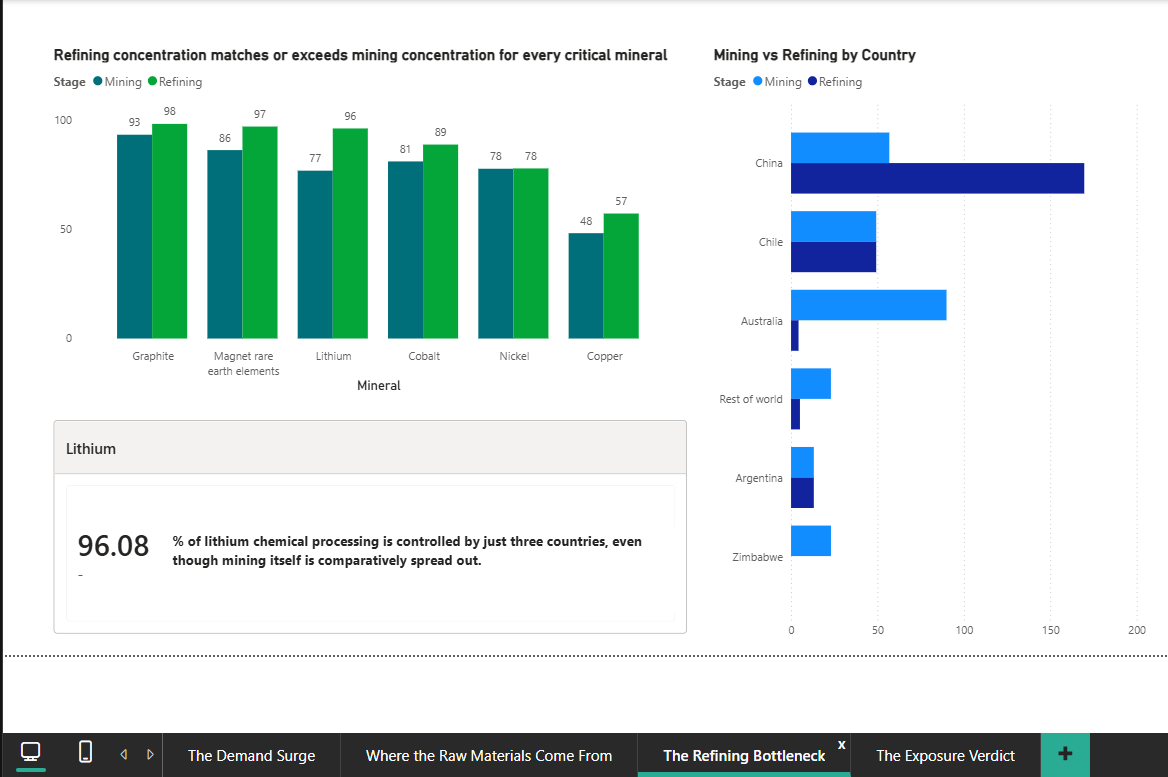

Layout of this report page (visuals, bound fields, positions):
{"tool":"powerbi","page":{"name":"The Refining Bottleneck","canvas":[1280,720],"ordinal":2},"visuals":[{"type":"clusteredColumnChart","title":"Refining concentration matches or exceeds mining concentration for every critical mineral","fields":{"Category":["CriticalMinerals_Top3Share.Mineral"],"Y":["Sum(CriticalMinerals_Top3Share.Top3SharePct)"],"Series":["CriticalMinerals_Top3Share.Stage"]},"box":[50.8,49.4,694.3,387],"z":0},{"type":"cardVisual","fields":{"Rows":["CriticalMinerals_Top3Share.Mineral"],"Data":["Max(CriticalMinerals_Top3Share.Top3SharePct)"]},"box":[50.8,436.4,705.3,284],"z":1000},{"type":"textbox","box":[181.1,579.1,564,93.3],"z":2000},{"type":"clusteredBarChart","title":"Mining vs Refining by Country","fields":{"Category":["CriticalMinerals_CountryLevel.Country"],"Y":["Sum(CriticalMinerals_CountryLevel.Value_kt)"],"Series":["CriticalMinerals_CountryLevel.Stage"]},"box":[775.3,49.4,484.4,660],"z":3000}]}

Visuals, with their boxes on the page's 1280x720 design canvas (x1, y1, x2, y2). These are canvas units, not pixel positions in the 1168x777 screenshot, which may show the page scaled, cropped or inside an application window:
"Refining concentration matches or exceeds mining concentration for every critical mineral" clusteredColumnChart: 51:49:745:436
cardVisual - CriticalMinerals_Top3Share.Mineral x Max(CriticalMinerals_Top3Share.Top3SharePct): 51:436:756:720
textbox: 181:579:745:672
"Mining vs Refining by Country" clusteredBarChart: 775:49:1260:709
